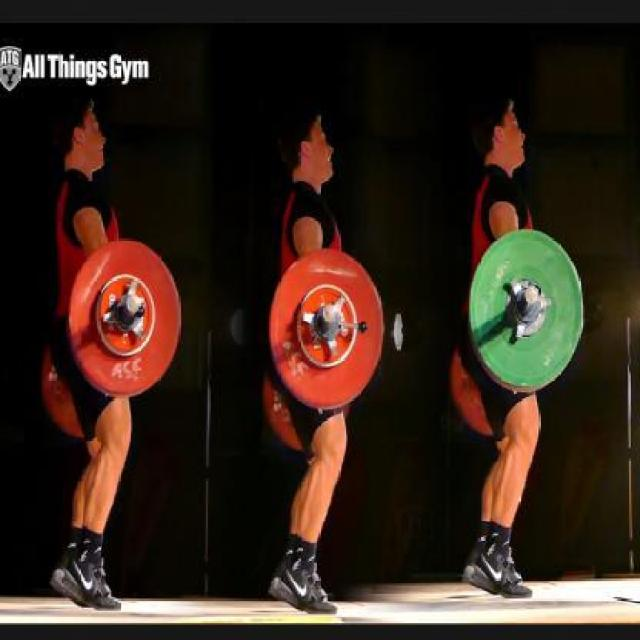barbell: (465, 221, 591, 395), (263, 245, 388, 413), (66, 235, 185, 401)
